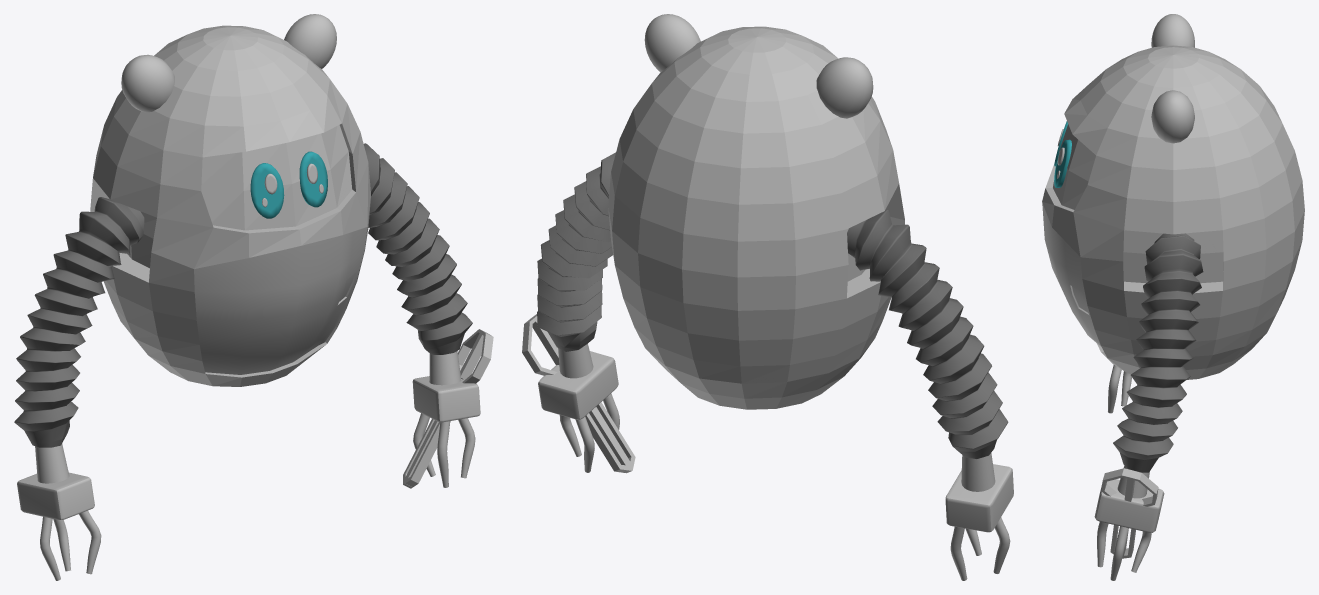
Rendered from Idle_default.fbx.
3 views of the same model, side by side, from view 1: azimuth 30°, elevation 25°; view 2: azimuth 150°, elevation 25°; view 3: azimuth 270°, elevation 25° (orthographic). The views are drawn at different scales.
Visible parts, largest first — view 1: Cuerpo, PuertaPancita, Brazo_der, Brazo_izq, Orejas, Base_der, Base_izq, Tijerastijera, Ojo_izq, Tijerasbase, Ojo3, Dedo2_izq (+2 smaller); view 2: Cuerpo, Brazo_der, Brazo_izq, Orejas, Base_izq, Base_der, Tijerasbase, Tijerastijera; view 3: Cuerpo, Brazo_izq, Orejas, Base_izq, PuertaPancita, Tijerasbase, Tijerastijera, Dedo3_izq, Ojo3, Dedo3_der, Dedo2_izq, Dedo1_izq.
Part boxes in pixels (x1,y1,x2,y2): Cuerpo: (90, 25, 370, 386); PuertaPancita: (194, 227, 367, 374); Brazo_der: (14, 197, 144, 447); Brazo_izq: (363, 143, 472, 354); Orejas: (121, 14, 336, 112); Base_der: (17, 443, 94, 519); Base_izq: (412, 352, 480, 422); Tijerastijera: (403, 331, 493, 487); Ojo_izq: (250, 163, 284, 218); Tijerasbase: (403, 329, 489, 488); Ojo3: (299, 151, 327, 207); Dedo2_izq: (437, 421, 450, 487); Cuerpo: (608, 26, 904, 409); Brazo_der: (847, 209, 1008, 458); Brazo_izq: (537, 152, 615, 351); Orejas: (644, 14, 873, 118); Base_izq: (538, 343, 618, 419); Base_der: (945, 453, 1013, 532); Tijerasbase: (522, 316, 635, 472); Tijerastijera: (531, 314, 633, 473); Cuerpo: (1042, 45, 1304, 379); Brazo_izq: (1113, 233, 1203, 472); Orejas: (1151, 14, 1194, 143); Base_izq: (1094, 465, 1164, 532); PuertaPancita: (1042, 203, 1101, 346); Tijerasbase: (1110, 470, 1158, 558); Tijerastijera: (1101, 468, 1135, 558); Dedo3_izq: (1110, 526, 1128, 580); Ojo3: (1054, 139, 1071, 187); Dedo3_der: (1108, 365, 1121, 413); Dedo2_izq: (1097, 521, 1108, 567); Dedo1_izq: (1131, 531, 1151, 572).
Bounding box in the file's own units: 9.37 × 9.35 × 5.
